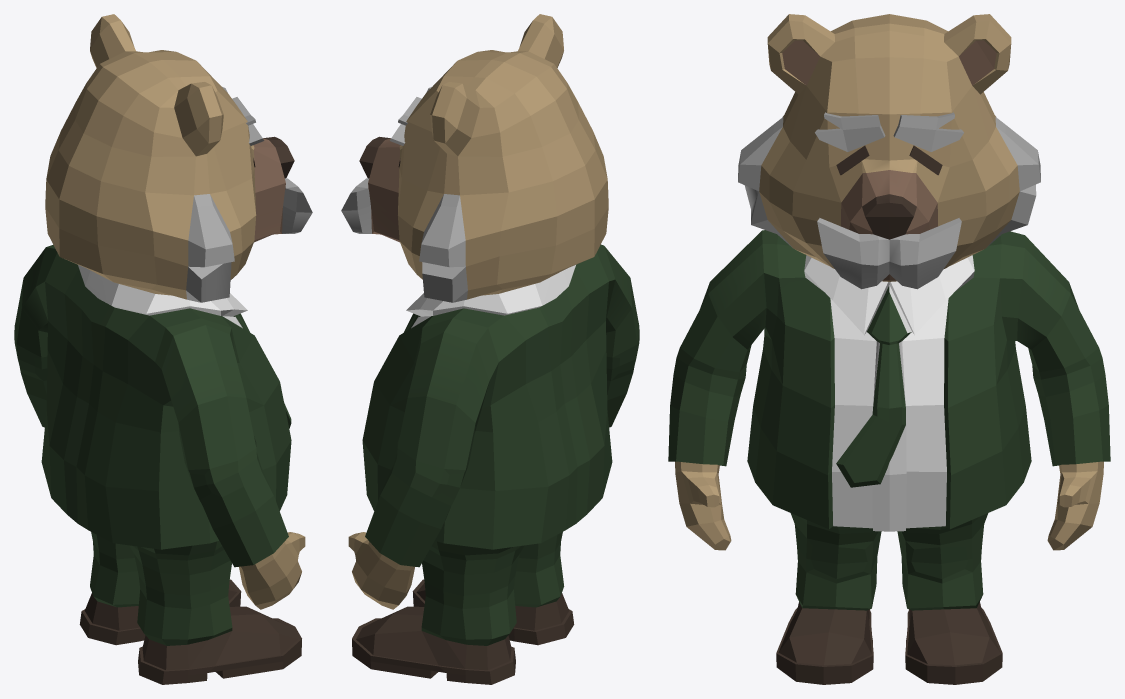
File: professor_mesh.fbx
3 renders of one model, left to right at view 1: azimuth 30°, elevation 25°; view 2: azimuth 150°, elevation 25°; view 3: azimuth 270°, elevation 25°, orthographic. The views are drawn at different scales.
Parts seen in each view (by area): view 1: professor.001; view 2: professor.001; view 3: professor.001.
Part boxes in pixels (bbox=[...]): professor.001: bbox=[14, 14, 312, 684]; professor.001: bbox=[341, 14, 639, 684]; professor.001: bbox=[668, 14, 1110, 684].
Bounding box in the file's own units: 77.19 × 190 × 124.
